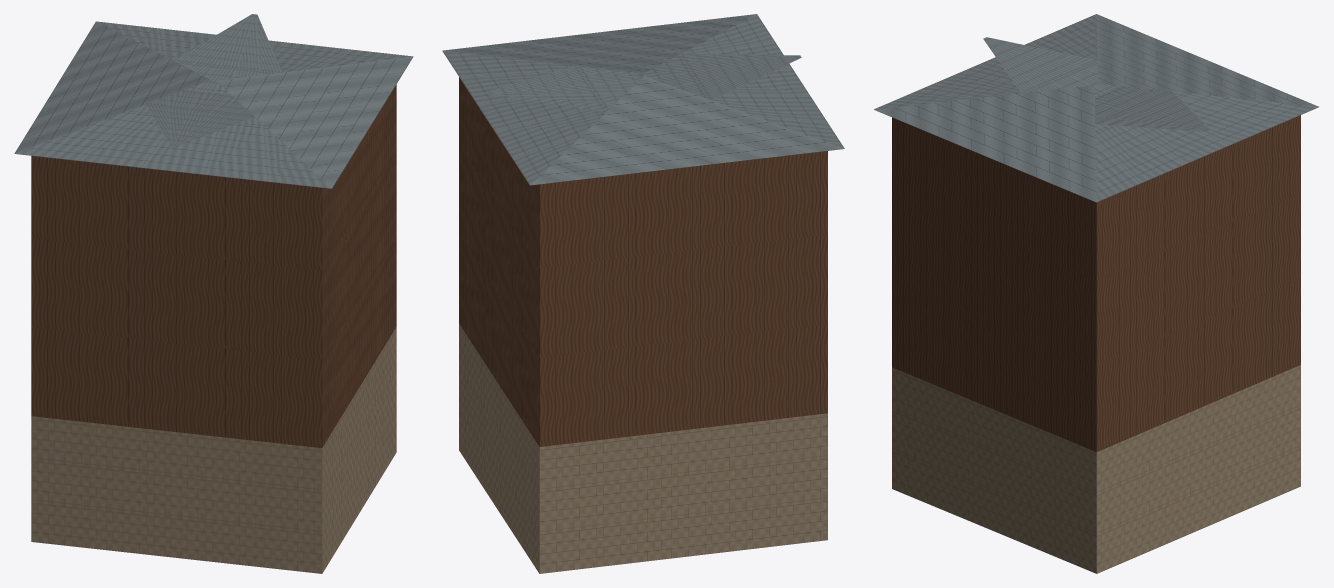
File: bld_c10_9_504.gltf
3 renders of one model, left to right at view 1: azimuth 30°, elevation 25°; view 2: azimuth 150°, elevation 25°; view 3: azimuth 270°, elevation 25°, orthographic. The views are drawn at different scales.
Parts seen in each view (by area): view 1: bld_c10_9_504; view 2: bld_c10_9_504; view 3: bld_c10_9_504.
Part boxes in pixels (x1=…): bld_c10_9_504: x1=14, y1=14, x2=413, y2=573; bld_c10_9_504: x1=442, y1=14, x2=844, y2=573; bld_c10_9_504: x1=874, y1=14, x2=1318, y2=573.
Size of the model in its own units: 16.95 by 16.9 by 16.95.
Materials: 3 (3 with a texture image).
